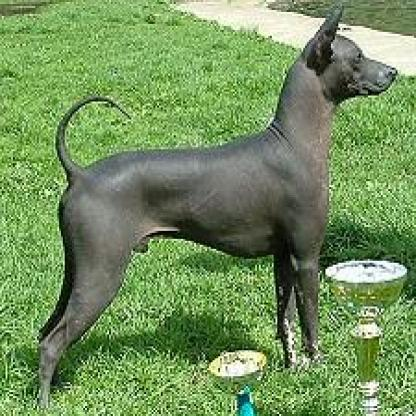Mexican_hairless: (33, 8, 394, 404)
